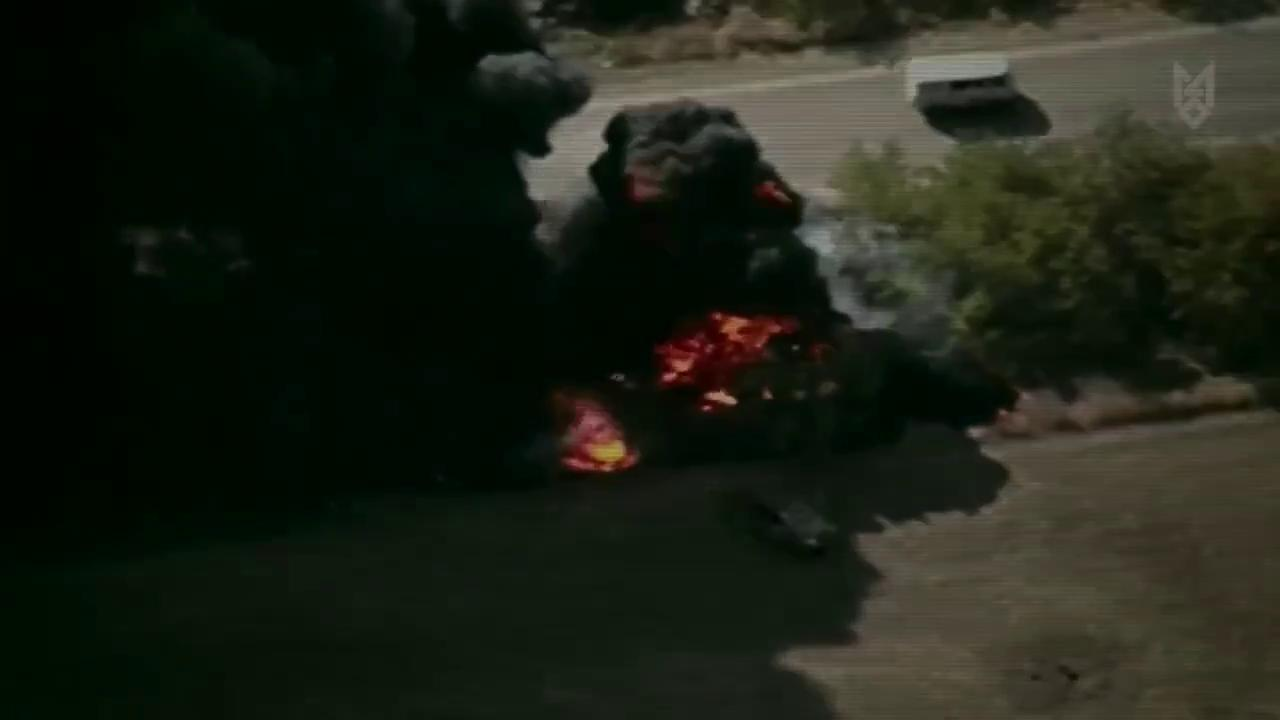tank: (726, 473, 843, 574)
